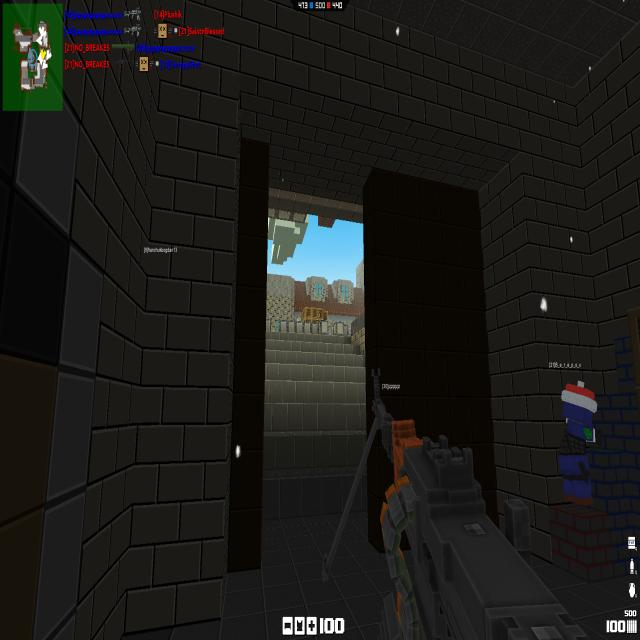player: (556, 378, 600, 509)
